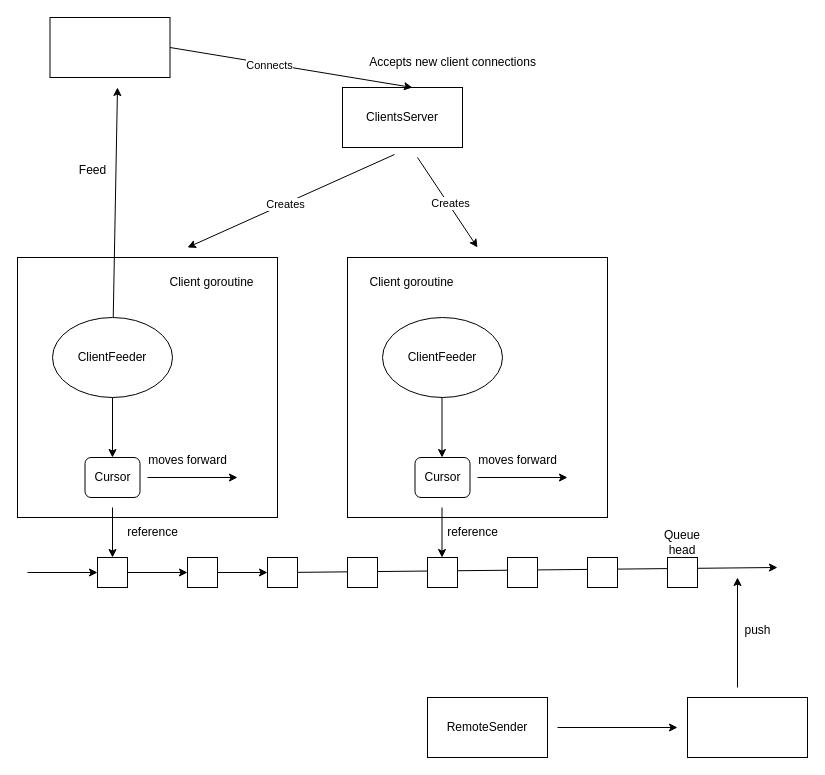
Some shapes in this 825 by 775 pixel diagram are drawn without their labels. The shapes that lost their labels are listed below. From the top down, each one's centre as x and y in pixels, then its label:
At (109,47): "RemoteClient".
At (747,727): "SourceListener".
